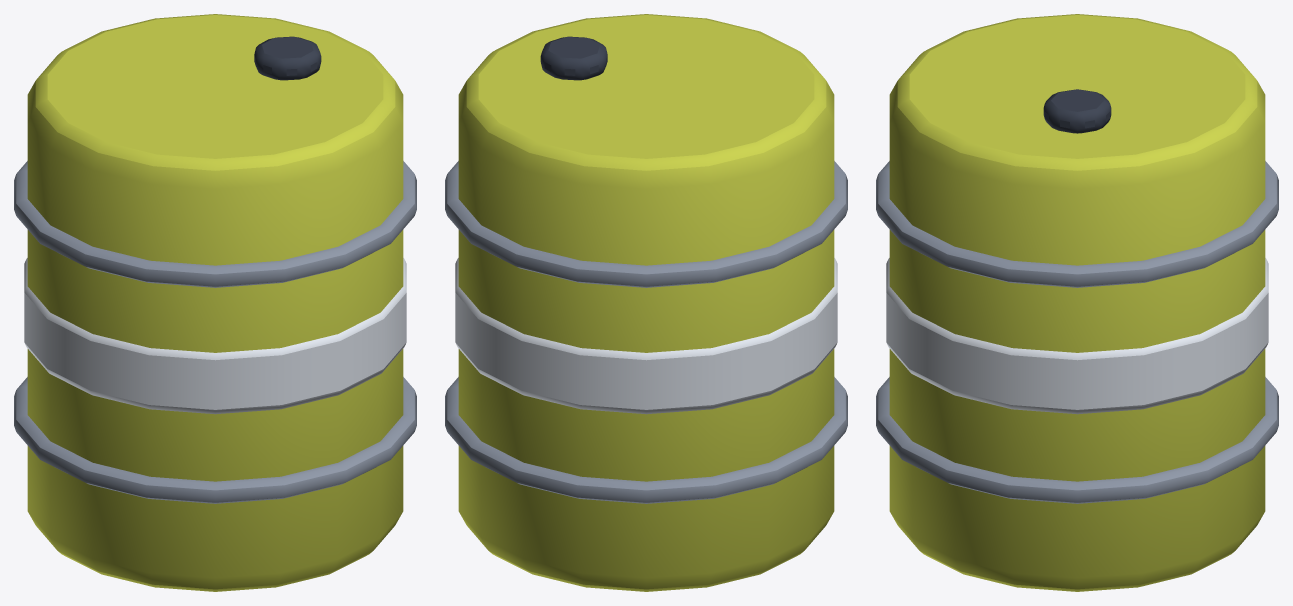
The model's file is ware_biosprit.fbx.
3 views of the same model, side by side, from view 1: azimuth 30°, elevation 25°; view 2: azimuth 150°, elevation 25°; view 3: azimuth 270°, elevation 25° (orthographic).
Parts seen in each view (by area): view 1: ware_biosprit_Koerper; view 2: ware_biosprit_Koerper; view 3: ware_biosprit_Koerper.
Boxes of the visible parts, box(x1,y1,x2,y2) form: ware_biosprit_Koerper: box(14, 14, 416, 591); ware_biosprit_Koerper: box(445, 14, 847, 591); ware_biosprit_Koerper: box(876, 14, 1278, 591).
Size of the model in its own units: 0.3432 by 0.42 by 0.338.
